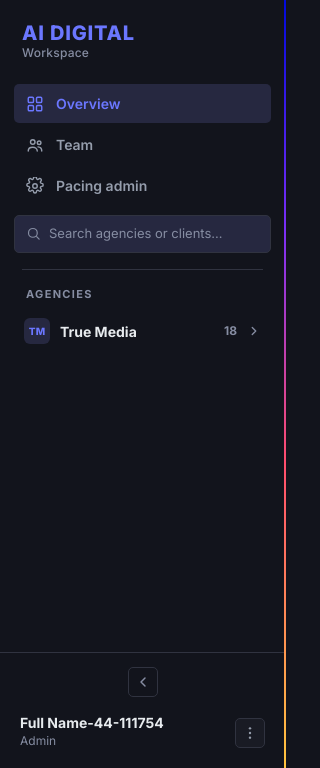
it: Sidebar › should load the clients an expanded agency has past the embedded ones
# the agency is expanded
Click the link "TM True Media 18": (98, 331) top-left (14, 310), bottom-right (271, 352)
(page scrolled)
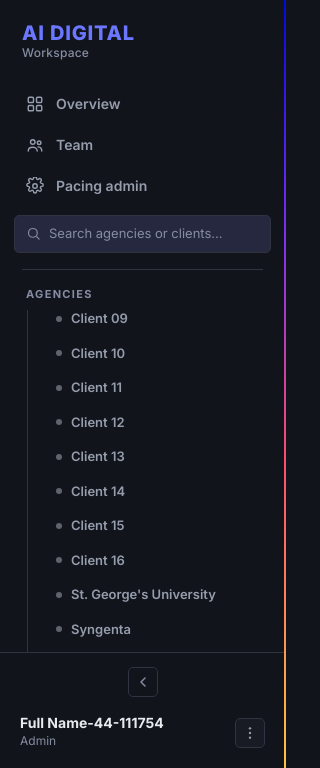
Check: the link "St. George's University" is shown, box top-left (56, 586), bottom-right (216, 602)
